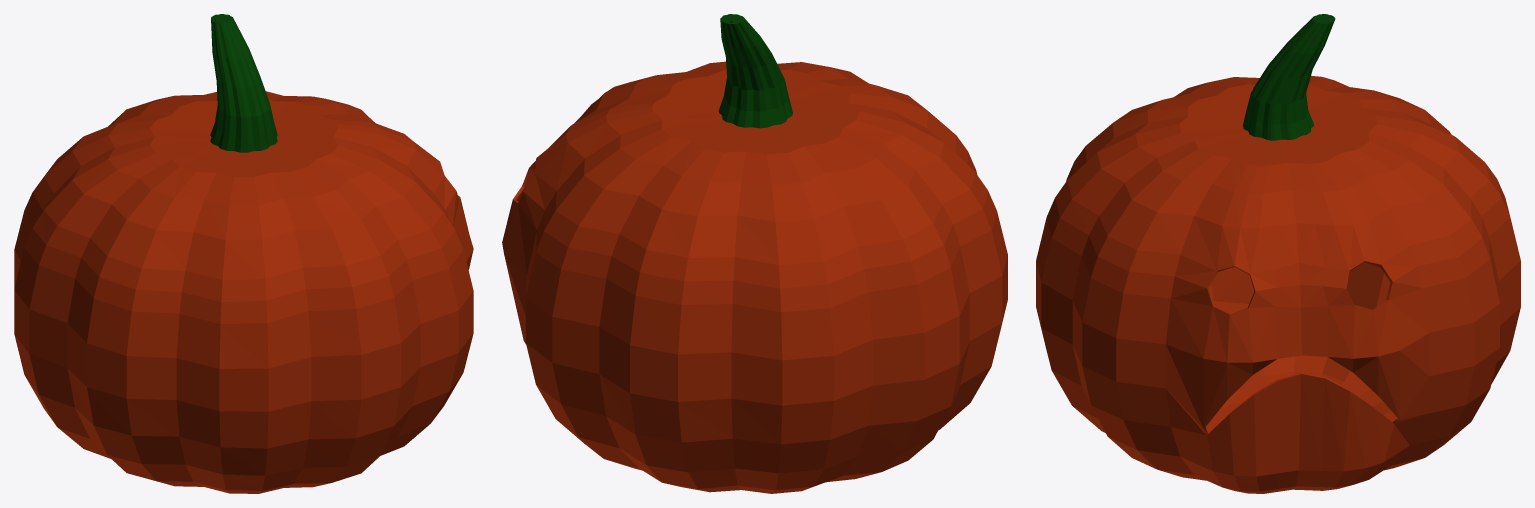
The model's file is Sad_Sad_Squash.FBX.
The picture shows the model from 3 angles, left to right: view 1: azimuth 30°, elevation 25°; view 2: azimuth 150°, elevation 25°; view 3: azimuth 270°, elevation 25°; orthographic projection. The views are drawn at different scales.
Visible parts, largest first — view 1: Sphere001; view 2: Sphere001; view 3: Sphere001.
Part boxes in pixels (x1,y1,x2,y2): Sphere001: (14,14,473,493); Sphere001: (502,14,1007,493); Sphere001: (1036,14,1520,493).
Bounding box in the file's own units: 1.56 × 1.55 × 1.57.
